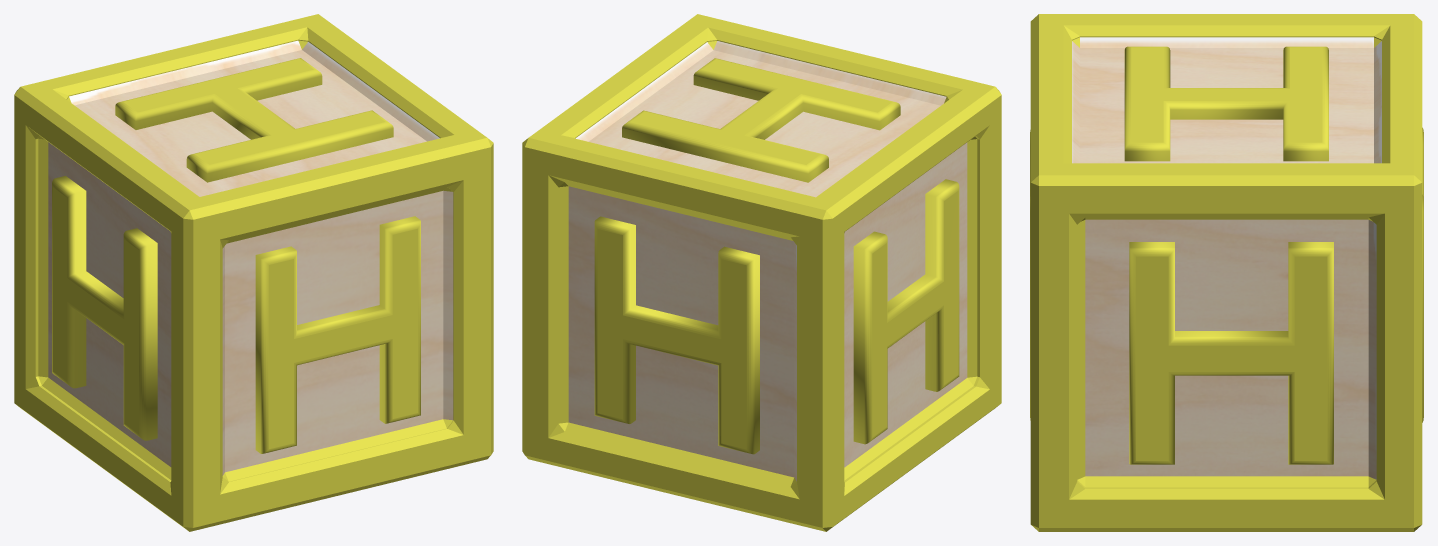
File: block_H (1).fbx
3 views of the same model, side by side, from view 1: azimuth 30°, elevation 25°; view 2: azimuth 150°, elevation 25°; view 3: azimuth 270°, elevation 25° (orthographic). The views are drawn at different scales.
Visible parts, largest first — view 1: Cube, text_H.001, text_H.002, text_H; view 2: Cube, text_H.001, text_H.002, text_H; view 3: Cube, text_H.002, text_H, text_H.001.
Part boxes in pixels (x1=…): Cube: x1=14, y1=14, x2=493, y2=531; text_H.001: x1=255, y1=216, x2=420, y2=453; text_H.002: x1=52, y1=176, x2=157, y2=440; text_H: x1=115, y1=58, x2=393, y2=182; Cube: x1=522, y1=14, x2=1001, y2=531; text_H.001: x1=594, y1=216, x2=759, y2=454; text_H.002: x1=853, y1=179, x2=959, y2=444; text_H: x1=622, y1=58, x2=900, y2=182; Cube: x1=1030, y1=14, x2=1422, y2=531; text_H.002: x1=1129, y1=242, x2=1333, y2=464; text_H: x1=1124, y1=46, x2=1328, y2=161; text_H.001: x1=1030, y1=127, x2=1423, y2=422.
Size of the model in its own units: 2035 by 2011 by 2011.
2 materials, 1 textured.
